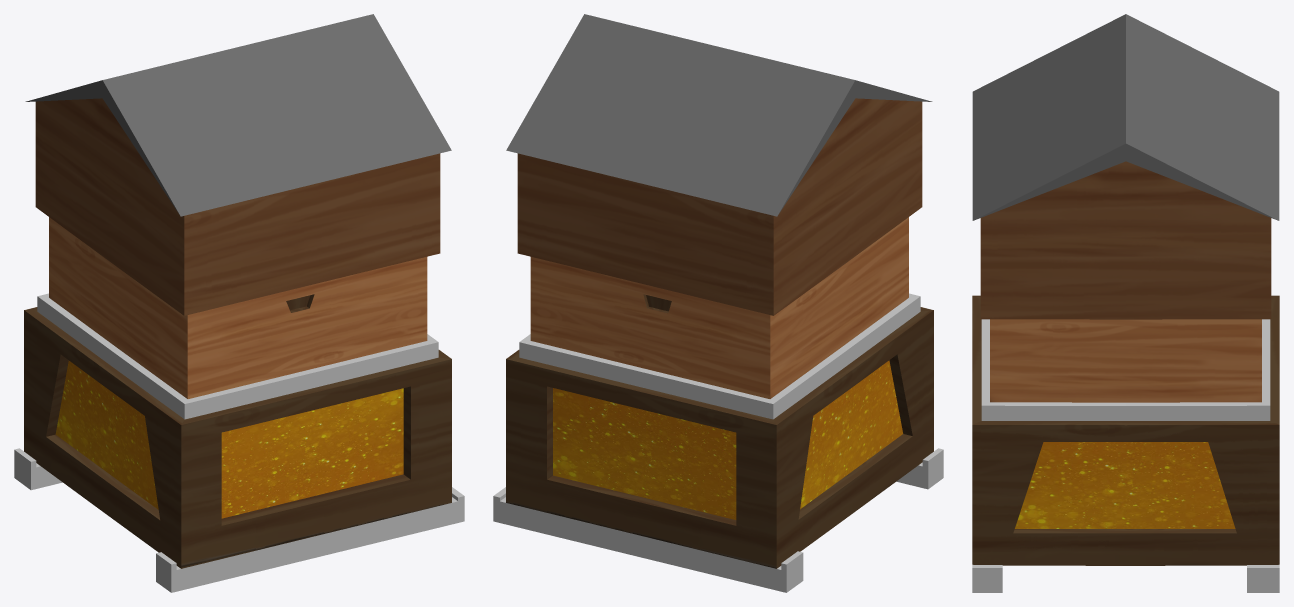
Rendered from Breeding_Beehive.fbx.
3 views of the same model, side by side, from view 1: azimuth 30°, elevation 25°; view 2: azimuth 150°, elevation 25°; view 3: azimuth 270°, elevation 25° (orthographic). The views are drawn at different scales.
Parts seen in each view (by area): view 1: Cube.002, toit, body haut, body center, body haut.001, ceinture, body haut.003; view 2: Cube.002, toit, body haut, body center, body haut.001, ceinture, body haut.003; view 3: toit, Cube.002, body haut, body center, body haut.001, ceinture, body haut.003.
Boxes of the visible parts, x1=… form: Cube.002: x1=35, y1=98, x2=440, y2=315; toit: x1=25, y1=14, x2=451, y2=216; body haut: x1=24, y1=307, x2=451, y2=568; body center: x1=49, y1=217, x2=427, y2=398; body haut.001: x1=55, y1=360, x2=403, y2=518; ceinture: x1=37, y1=293, x2=438, y2=419; body haut.003: x1=14, y1=448, x2=464, y2=592; Cube.002: x1=517, y1=98, x2=922, y2=315; toit: x1=506, y1=14, x2=932, y2=216; body haut: x1=506, y1=307, x2=933, y2=568; body center: x1=530, y1=217, x2=908, y2=398; body haut.001: x1=553, y1=360, x2=903, y2=519; ceinture: x1=519, y1=293, x2=920, y2=419; body haut.003: x1=493, y1=448, x2=943, y2=592; toit: x1=972, y1=14, x2=1279, y2=220; Cube.002: x1=980, y1=161, x2=1271, y2=319; body haut: x1=972, y1=295, x2=1279, y2=565; body center: x1=990, y1=319, x2=1261, y2=402; body haut.001: x1=1015, y1=442, x2=1235, y2=528; ceinture: x1=981, y1=319, x2=1270, y2=420; body haut.003: x1=972, y1=564, x2=1279, y2=592.
Size of the model in its own units: 216 by 319 by 201.
